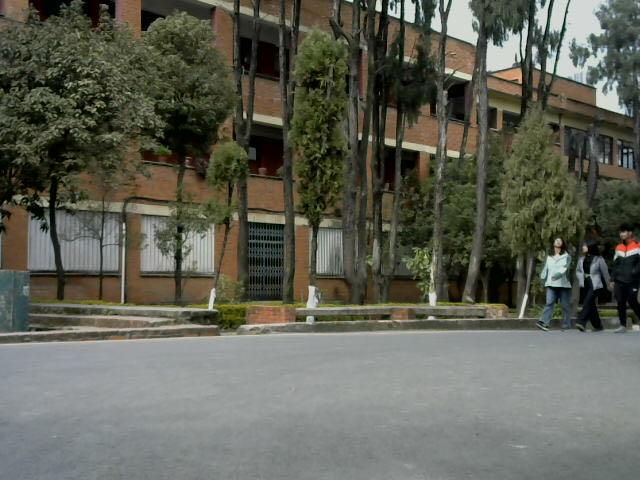Dustbin: (0, 269, 37, 336)
Person: (575, 234, 613, 334), (534, 228, 571, 330), (610, 219, 640, 331)
Road: (4, 321, 640, 480)
Tree: (2, 3, 139, 266), (270, 2, 379, 307), (413, 4, 510, 297), (150, 17, 258, 142), (208, 139, 255, 326), (594, 1, 640, 134)
